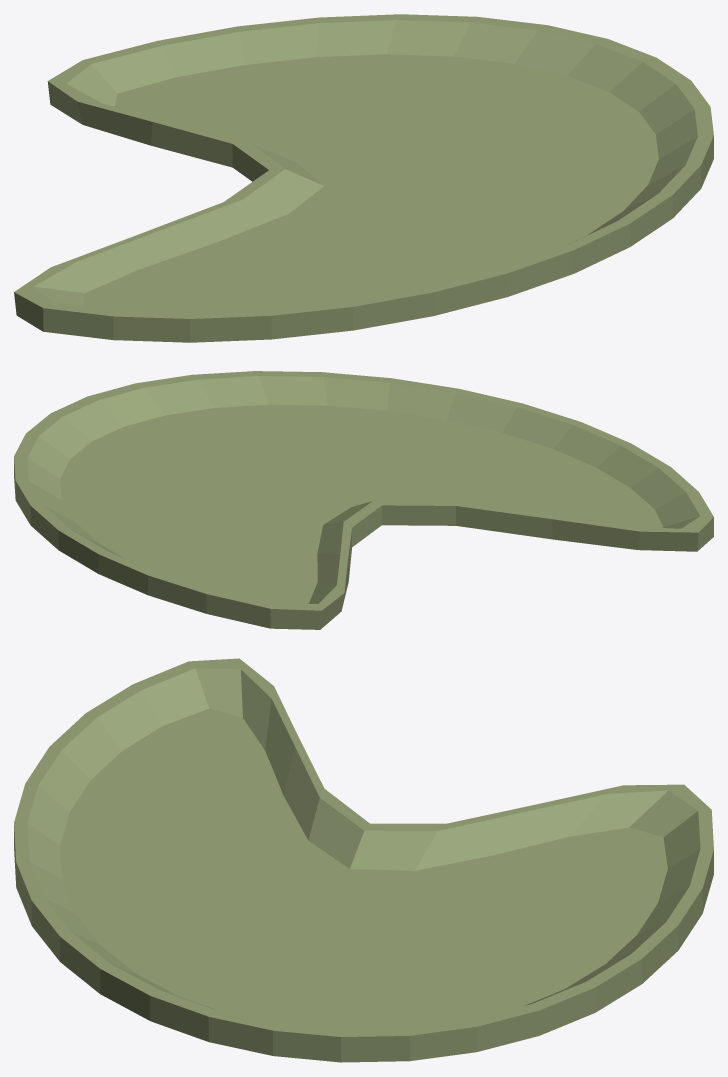
File: free-lily.glb
The picture shows the model from 3 angles, top to bottom: view 1: azimuth 30°, elevation 25°; view 2: azimuth 150°, elevation 25°; view 3: azimuth 270°, elevation 25°; orthographic projection. The views are drawn at different scales.
Parts seen in each view (by area): view 1: Waterlily_Half; view 2: Waterlily_Half; view 3: Waterlily_Half.
Boxes of the visible parts, left/top/right/bottom form: Waterlily_Half: left=14, top=14, right=713, bottom=342; Waterlily_Half: left=14, top=371, right=713, bottom=629; Waterlily_Half: left=14, top=658, right=713, bottom=1062.
Bounding box in the file's own units: 0.32 × 0.01 × 0.25.
